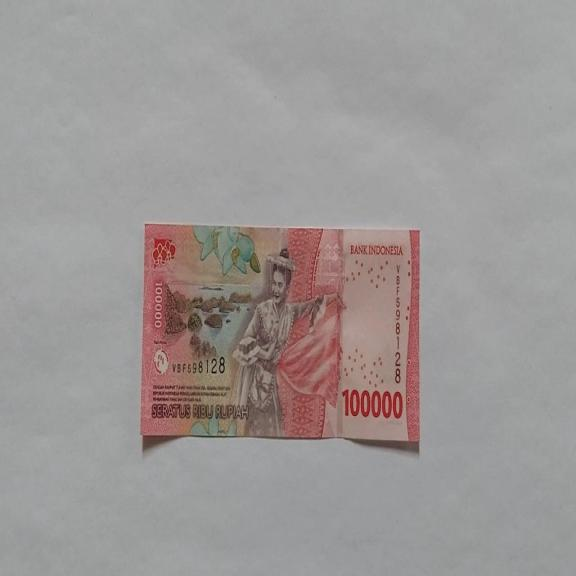Kertas: (140, 223, 420, 446), (341, 386, 404, 420)
